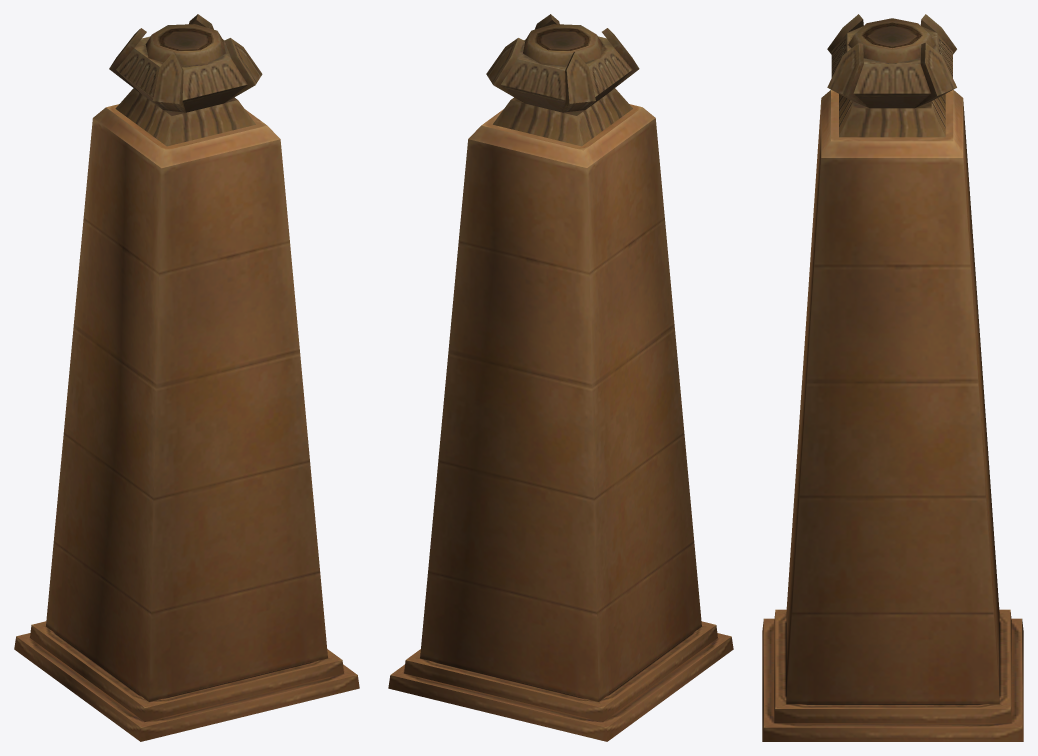
The model's file is shakian_cliff_convex8_wallcorner01_01.FBX.
The picture shows the model from 3 angles, left to right: view 1: azimuth 30°, elevation 25°; view 2: azimuth 150°, elevation 25°; view 3: azimuth 270°, elevation 25°; orthographic projection. The views are drawn at different scales.
Parts seen in each view (by area): view 1: shakian_cliff_convex8_wallcorner01_01; view 2: shakian_cliff_convex8_wallcorner01_01; view 3: shakian_cliff_convex8_wallcorner01_01.
Part boxes in pixels (left/top/right/bottom): shakian_cliff_convex8_wallcorner01_01: left=14, top=14, right=359, bottom=741; shakian_cliff_convex8_wallcorner01_01: left=388, top=14, right=733, bottom=741; shakian_cliff_convex8_wallcorner01_01: left=762, top=14, right=1023, bottom=741.
Bounding box in the file's own units: 3.73 × 10.37 × 3.73.
